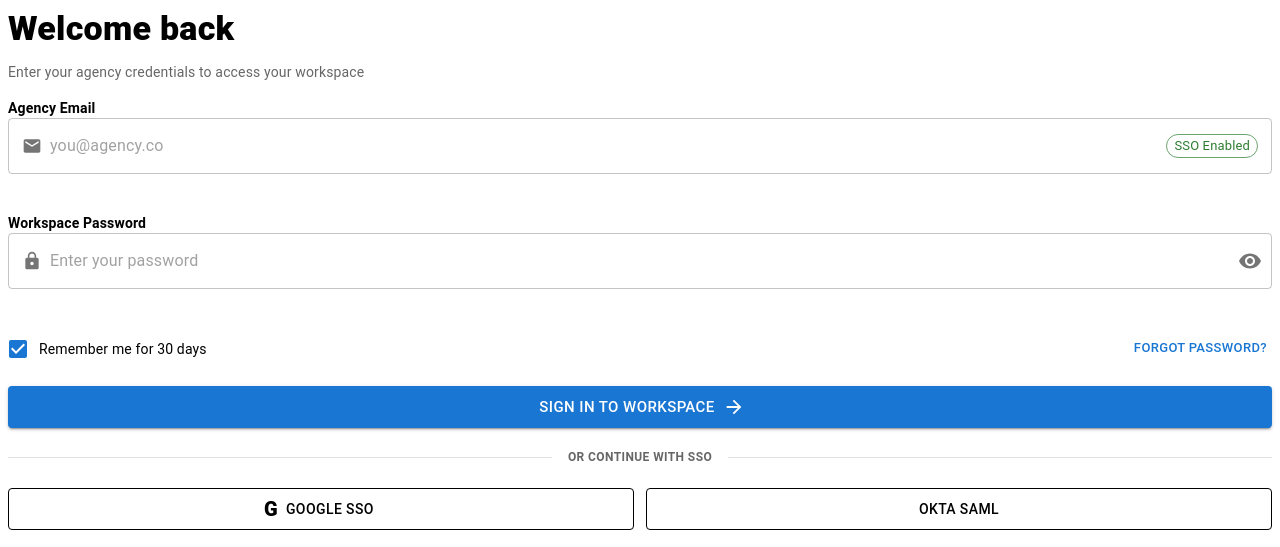
LoginForm › shows required-field errors on empty submit
The image size is (1280, 547).
Click the button "Sign In to Workspace": (640, 407) [8,386,1272,428]
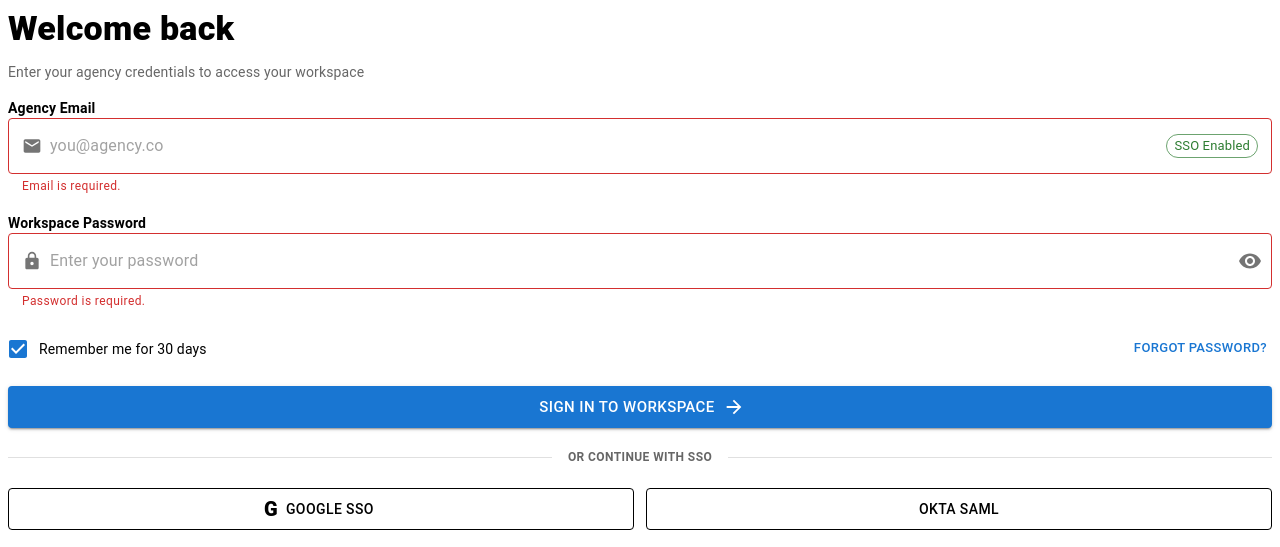
Check: the text "Email is required." is shown, box [22,179,121,193]
Check: the text "Password is required." is shown, box [22,294,145,308]
